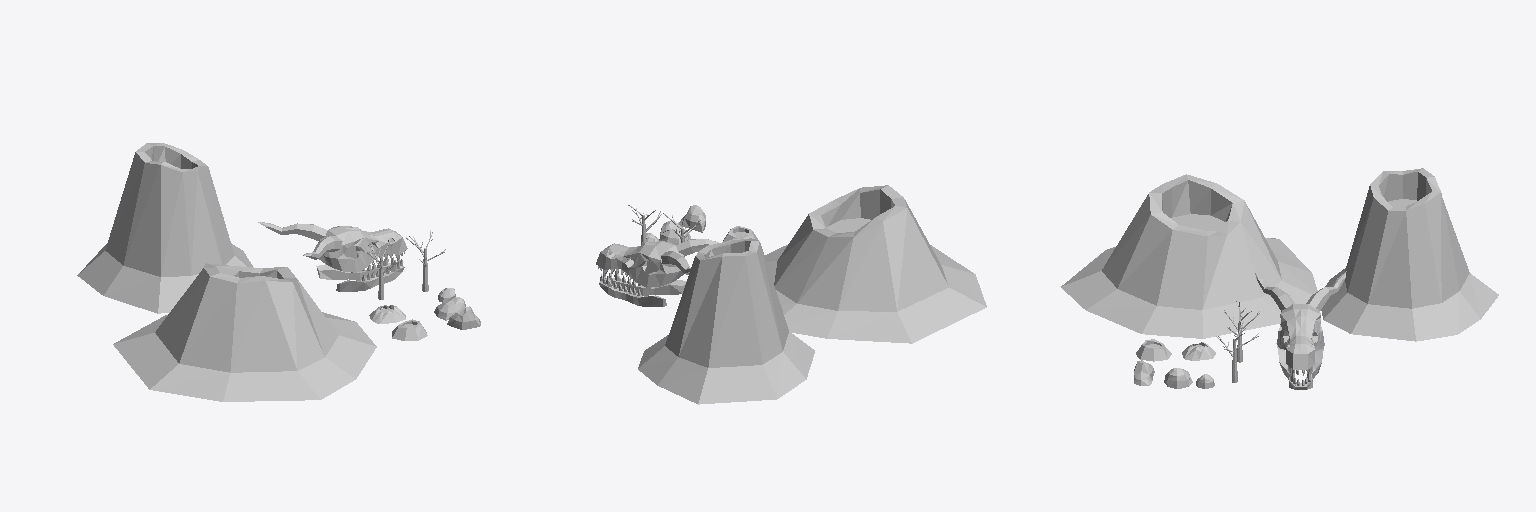
The model's file is roboGameAssets.obj.
3 renders of one model, left to right at view 1: azimuth 30°, elevation 25°; view 2: azimuth 150°, elevation 25°; view 3: azimuth 270°, elevation 25°, orthographic.
Parts seen in each view (by area): view 1: volcano_002:volcano_002_GEO, volcano_001:volcano_001_GEO, dragon_skull_GEO, dragon_jaw_GEO, lava_Crater_001:lava_crater_001_GEO; view 2: volcano_002:volcano_002_GEO, volcano_001:volcano_001_GEO, dragon_skull_GEO, dragon_jaw_GEO; view 3: volcano_002:volcano_002_GEO, volcano_001:volcano_001_GEO, dragon_skull_GEO, dragon_jaw_GEO, lava_Crater_001:lava_crater_001_GEO.
Boxes of the visible parts, x1=… form: volcano_002:volcano_002_GEO: x1=113, y1=263, x2=376, y2=401; volcano_001:volcano_001_GEO: x1=77, y1=143, x2=252, y2=313; dragon_skull_GEO: x1=258, y1=222, x2=407, y2=272; dragon_jaw_GEO: x1=316, y1=256, x2=404, y2=291; lava_Crater_001:lava_crater_001_GEO: x1=392, y1=319, x2=427, y2=340; volcano_002:volcano_002_GEO: x1=765, y1=185, x2=986, y2=343; volcano_001:volcano_001_GEO: x1=638, y1=238, x2=814, y2=404; dragon_skull_GEO: x1=596, y1=237, x2=744, y2=287; dragon_jaw_GEO: x1=599, y1=271, x2=686, y2=306; volcano_002:volcano_002_GEO: x1=1061, y1=174, x2=1317, y2=338; volcano_001:volcano_001_GEO: x1=1321, y1=168, x2=1498, y2=341; dragon_skull_GEO: x1=1255, y1=271, x2=1346, y2=375; dragon_jaw_GEO: x1=1276, y1=343, x2=1324, y2=389; lava_Crater_001:lava_crater_001_GEO: x1=1136, y1=339, x2=1171, y2=361.
Size of the model in its own units: 20.85 by 7.82 by 24.34.